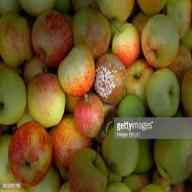apple: (30, 11, 76, 62), (8, 124, 52, 175), (26, 72, 66, 124), (141, 71, 183, 119), (92, 52, 126, 106), (52, 119, 92, 164), (156, 130, 190, 182), (68, 148, 112, 188), (144, 15, 178, 66), (58, 43, 93, 92), (104, 127, 138, 170), (2, 15, 32, 63), (72, 98, 107, 138), (81, 10, 113, 52), (113, 22, 143, 64)
